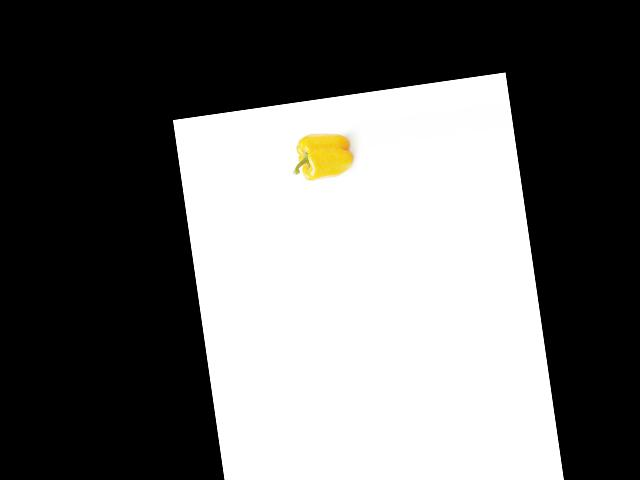bell_pepper: (285, 128, 357, 189)
